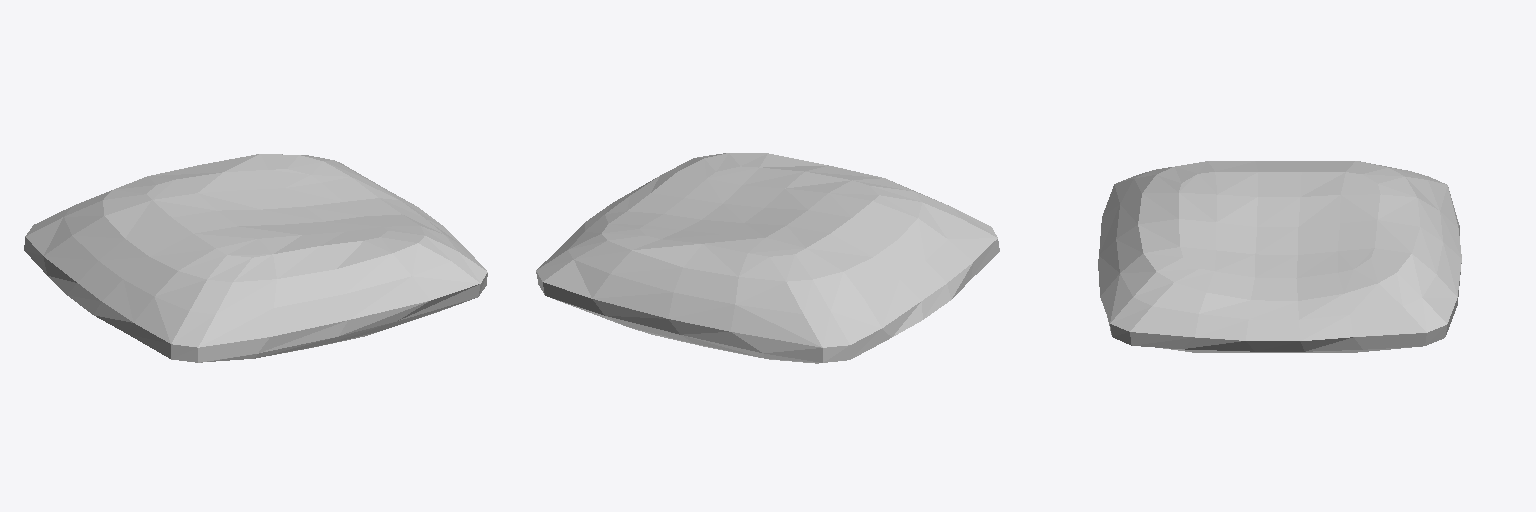
The model's file is Pillow_and_outline.obj.
3 renders of one model, left to right at view 1: azimuth 30°, elevation 25°; view 2: azimuth 150°, elevation 25°; view 3: azimuth 270°, elevation 25°, orthographic.
Parts seen in each view (by area): view 1: Pillow; view 2: Pillow; view 3: Pillow.
Boxes of the visible parts, box(x1,y1,x2,y2) form: Pillow: box(24, 154, 487, 362); Pillow: box(536, 153, 999, 363); Pillow: box(1098, 161, 1461, 352).
Bounding box in the file's own units: 63.31 × 17.21 × 57.72.